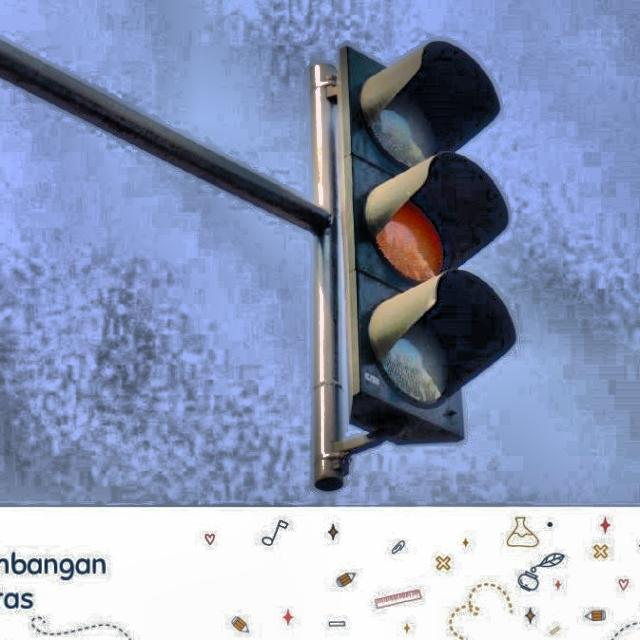yellow: (340, 42, 510, 447)
